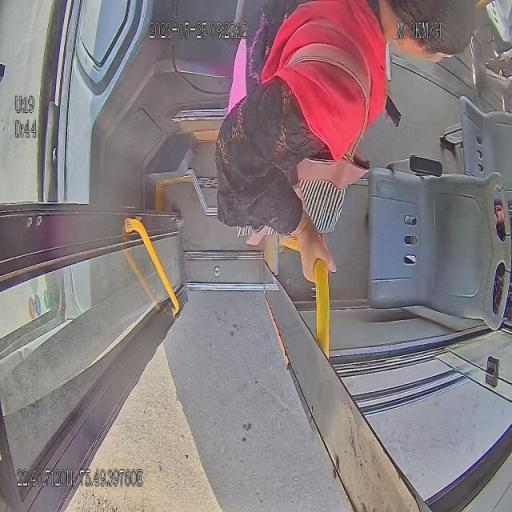persona: (214, 0, 476, 291)
